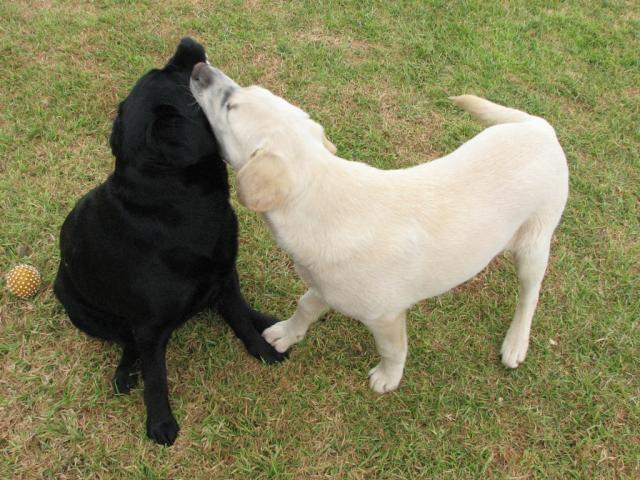Dog: (192, 60, 572, 394), (53, 36, 291, 445)
